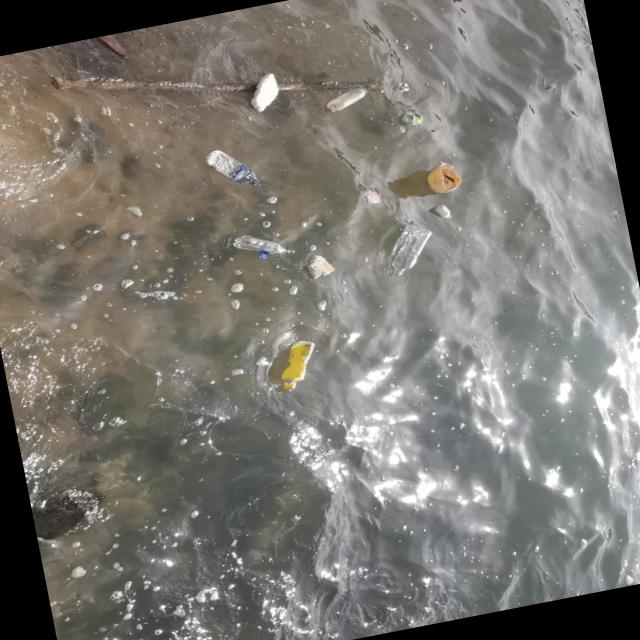can: (401, 112, 423, 128)
foam: (243, 73, 285, 115), (305, 253, 339, 282)
plastic bottle: (383, 229, 438, 279), (271, 341, 321, 392), (205, 150, 260, 186), (235, 228, 288, 263), (325, 87, 372, 114), (432, 206, 453, 223)
